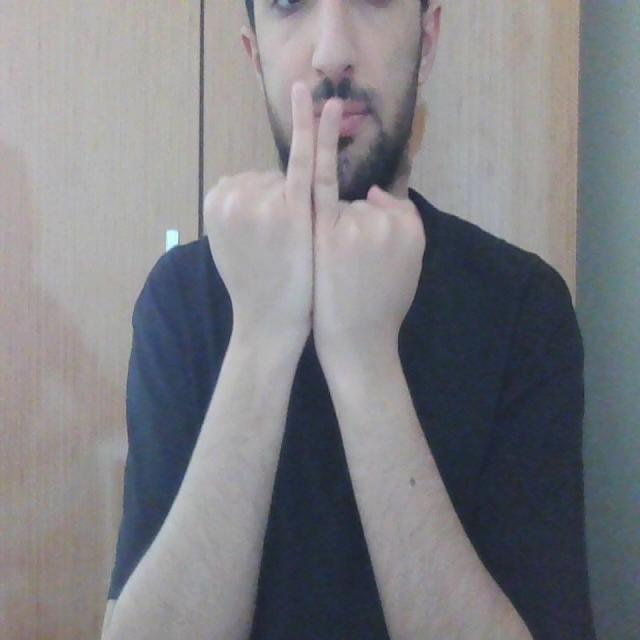Kardes: (198, 76, 429, 360)
